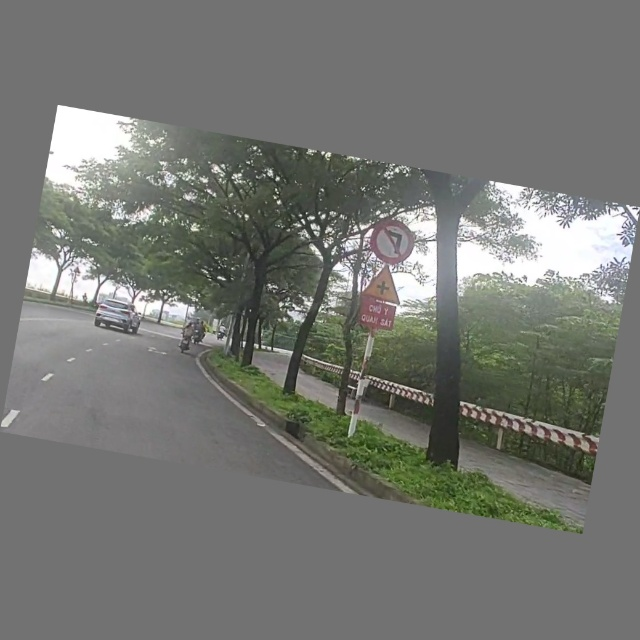P.123a: (367, 216, 423, 270)
W.205a: (359, 263, 408, 307)
